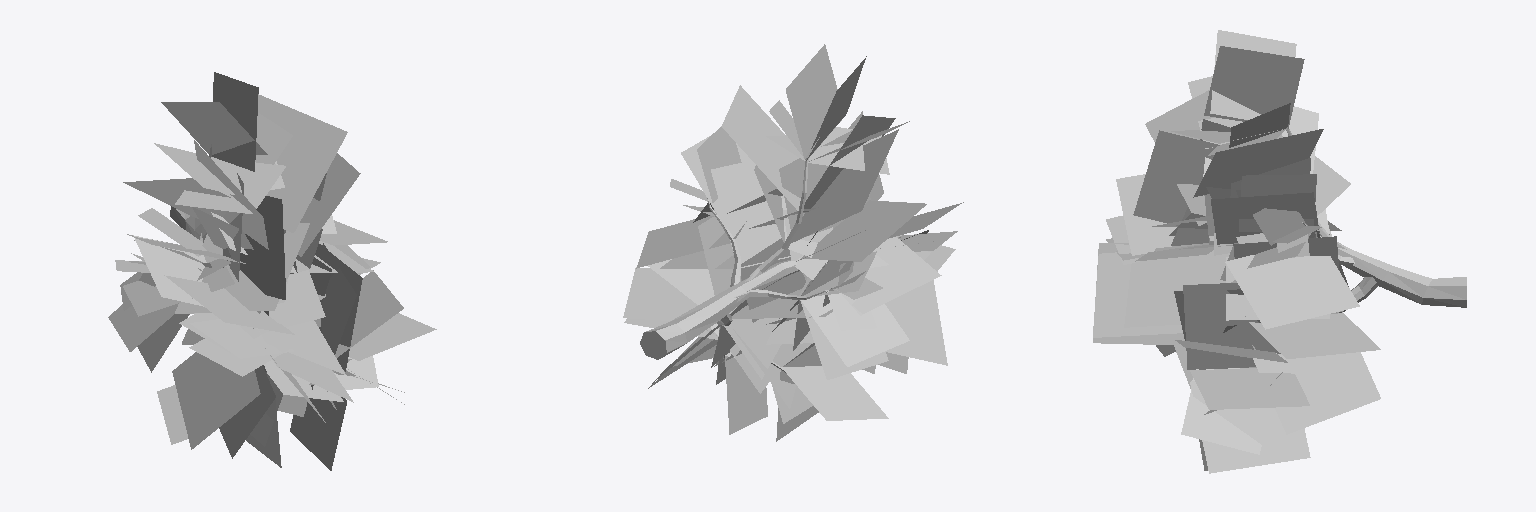
Rendered from cherry.obj.
3 renders of one model, left to right at view 1: azimuth 30°, elevation 25°; view 2: azimuth 150°, elevation 25°; view 3: azimuth 270°, elevation 25°, orthographic.
Visible parts, largest first — view 1: Model__blend_root; view 2: Model__blend_root; view 3: Model__blend_root.
Boxes of the visible parts, <box> form: Model__blend_root: <box>108,72,436,470</box>; Model__blend_root: <box>623,44,963,441</box>; Model__blend_root: <box>1093,30,1466,473</box>.
Size of the model in its own units: 8.64 by 11.17 by 9.63.